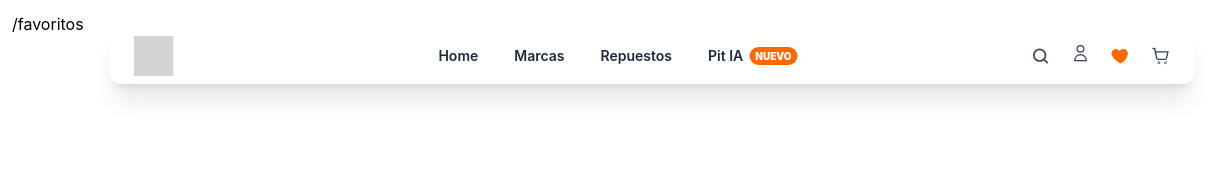
Test: Navbar › opens the global search with focus and applies its query from another page
Click the button named "Abrir búsqueda": (1040, 56) [1030,46,1050,66]
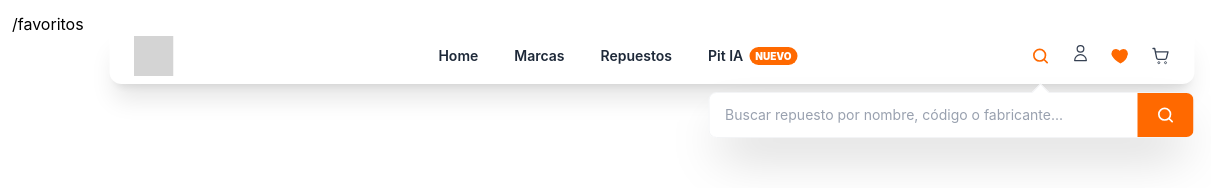
Expected: the navigation bar is shown, [110,28,1194,84]
In the field with placeholder "Buscar repuesto por nombre, código o fabricante...": (923, 115) [709,93,1138,137], type "kit de distribución"
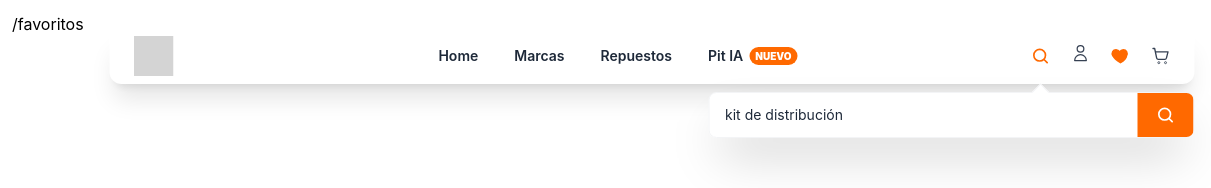
Press Enter
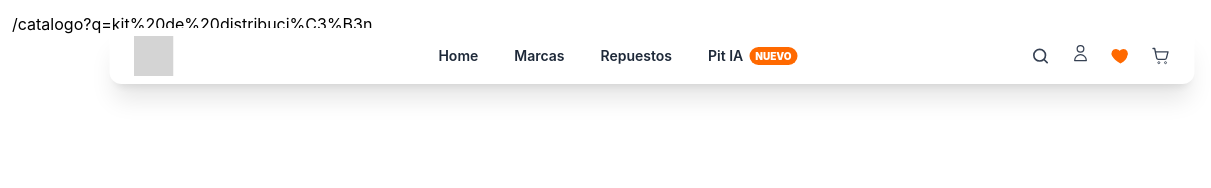
Expected: the field with placeholder "Buscar repuesto por nombre, código o fabricante..." is not shown
Expected: the text with test id "ruta-actual" reads "/catalogo?q=kit%20de%20distribuci%C3%B3n", [12,14,372,34]
